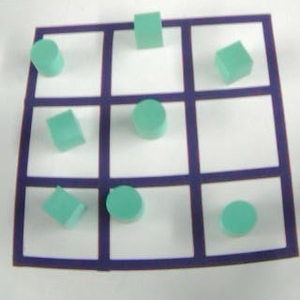cube: (38, 181, 92, 233), (208, 35, 259, 88), (41, 105, 92, 158), (129, 7, 170, 52)
cylinder: (213, 193, 265, 244), (127, 95, 174, 144), (102, 182, 151, 229), (26, 35, 72, 82)
empty: (189, 93, 288, 176)
